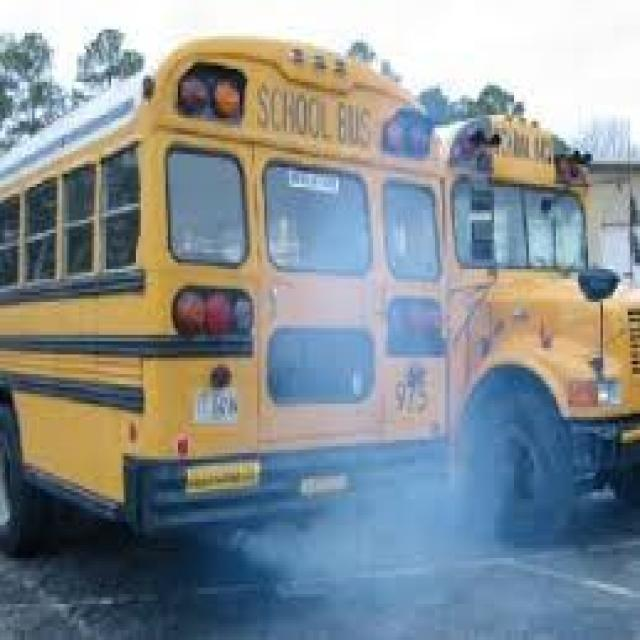Smoke: (250, 201, 517, 640)
